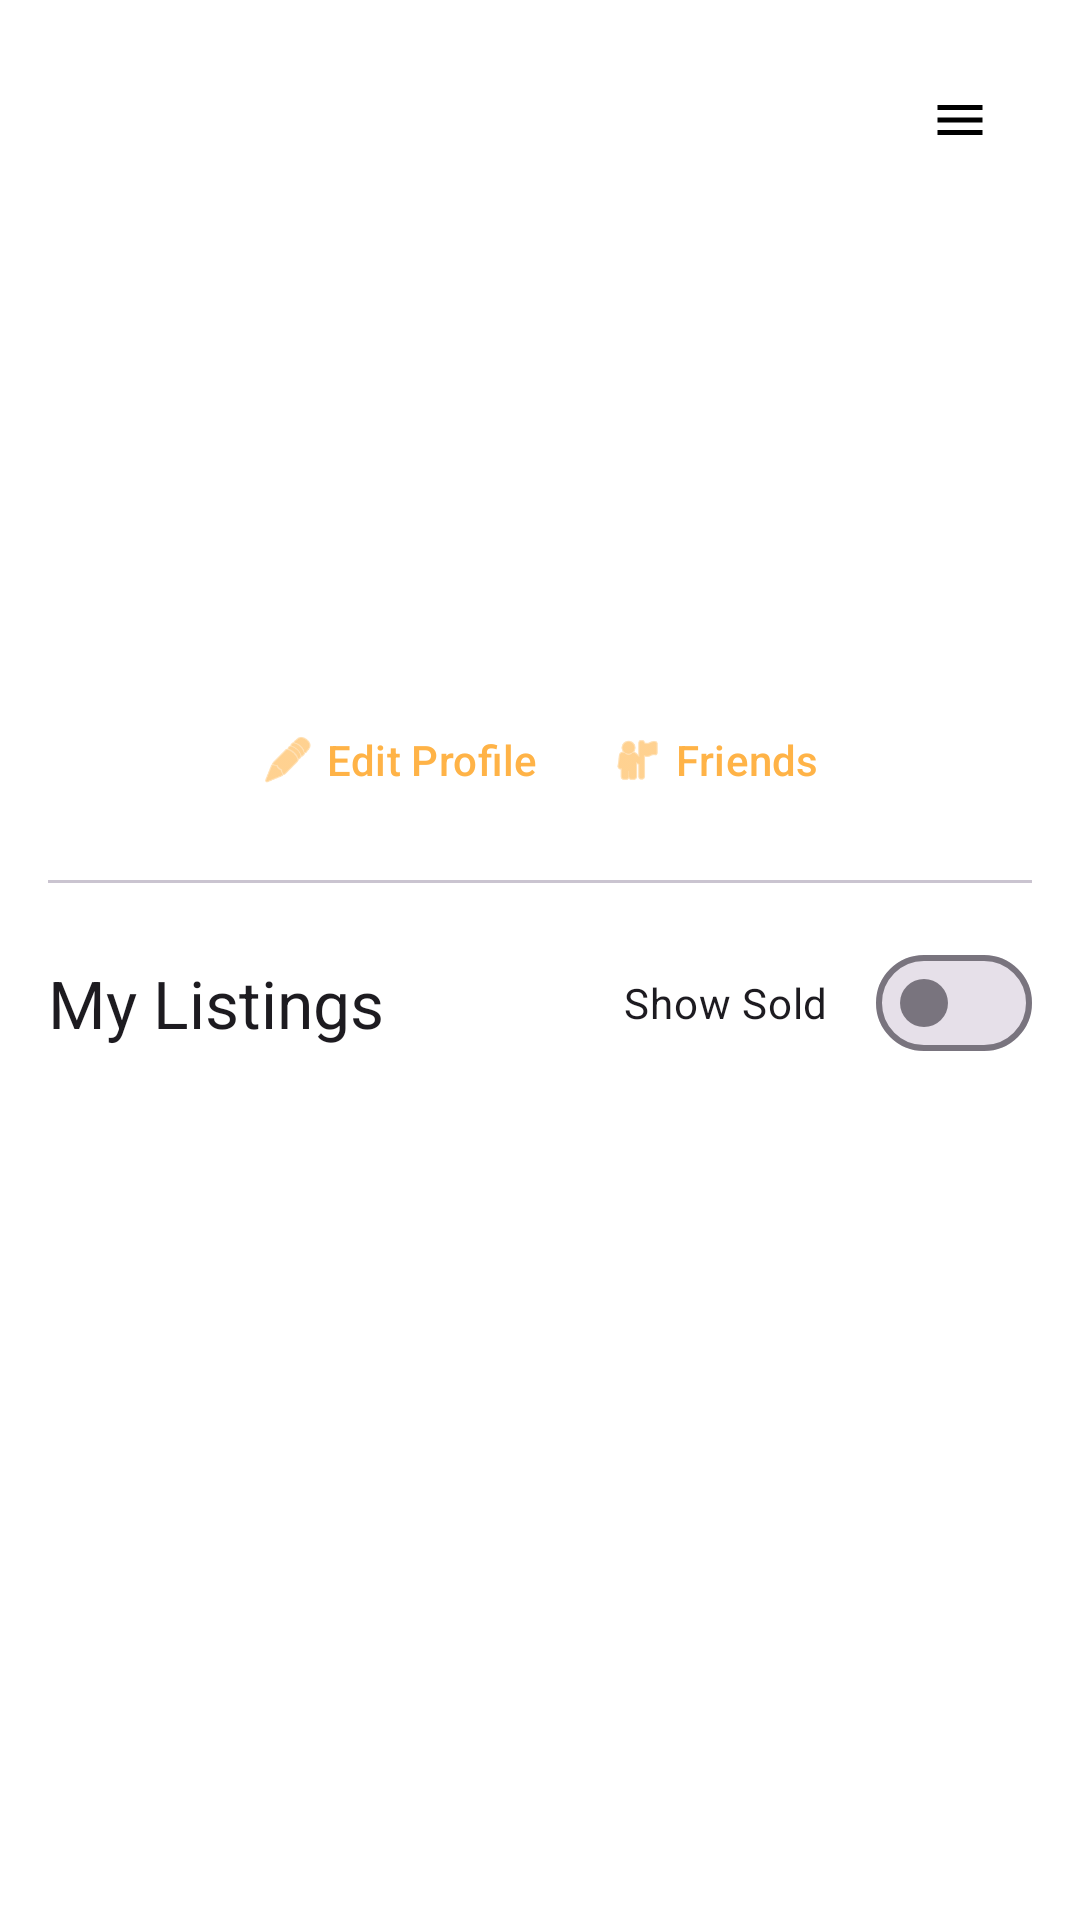

Icon bounding boxes for this 1080w x 1920h phone screenshot, format (x1, y1, x2, y2):
menu: (937, 105, 983, 135)
